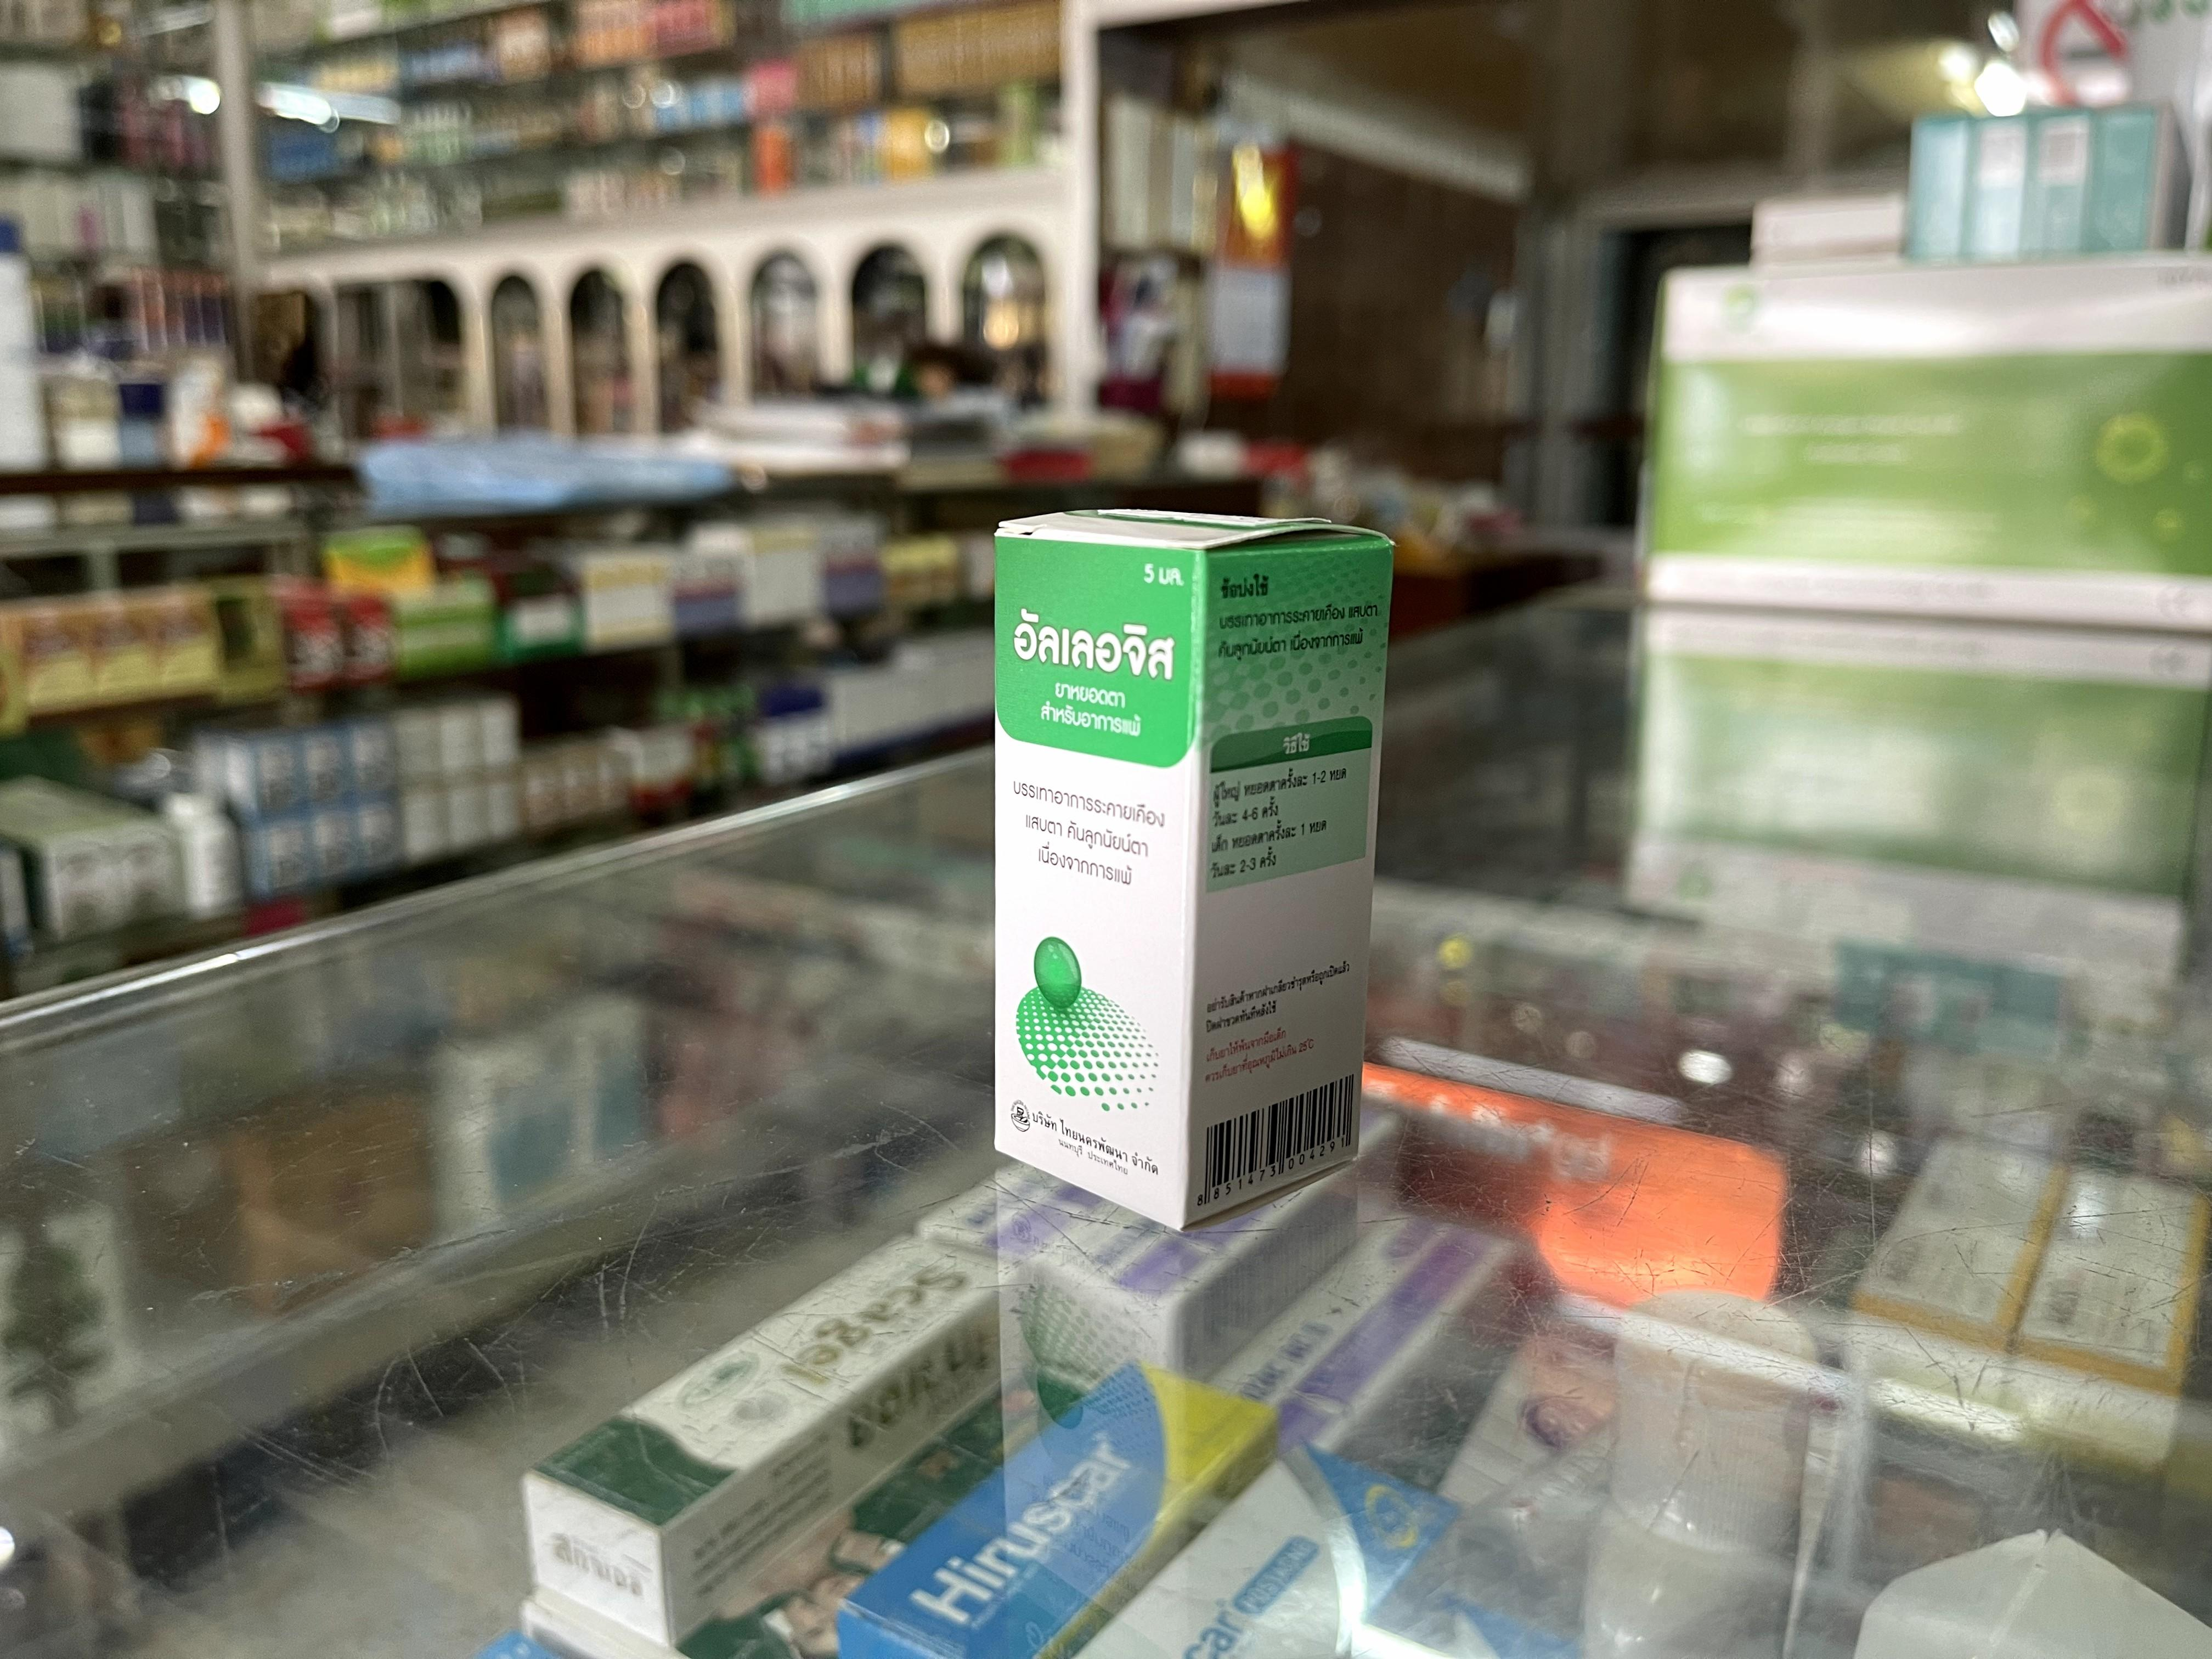Allergis: (996, 511, 1393, 1232)
